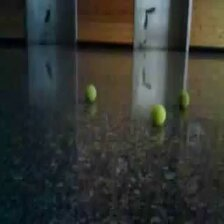tennis: (151, 105, 166, 125), (85, 84, 98, 104), (178, 92, 189, 109)
